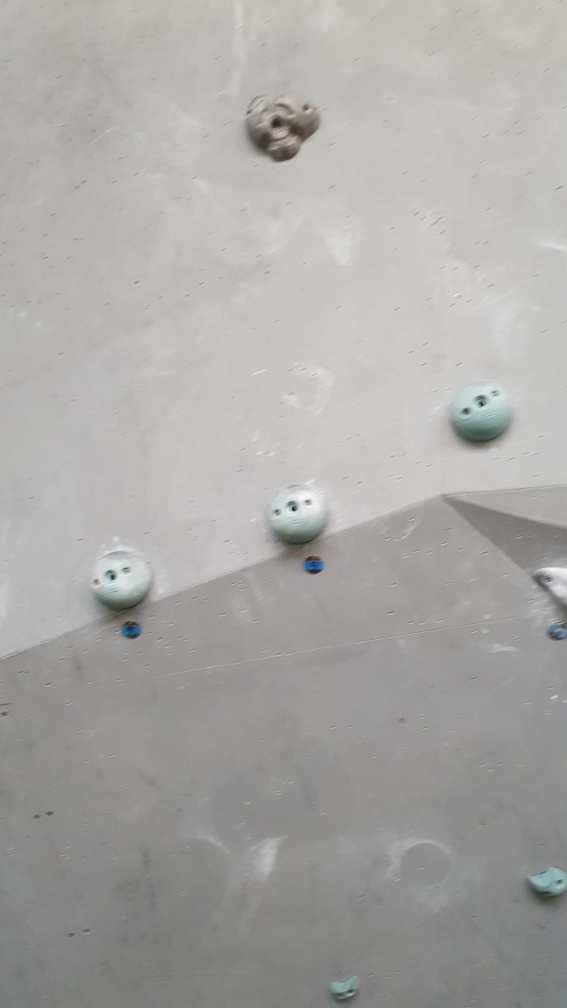Hand Start: (120, 619, 145, 642), (303, 550, 326, 575)
Jug: (241, 88, 326, 164)
Sloper: (448, 374, 514, 449), (264, 478, 333, 549), (89, 547, 158, 613)
